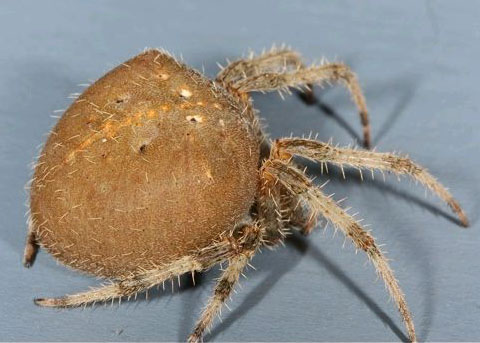spider: (10, 21, 474, 343)
